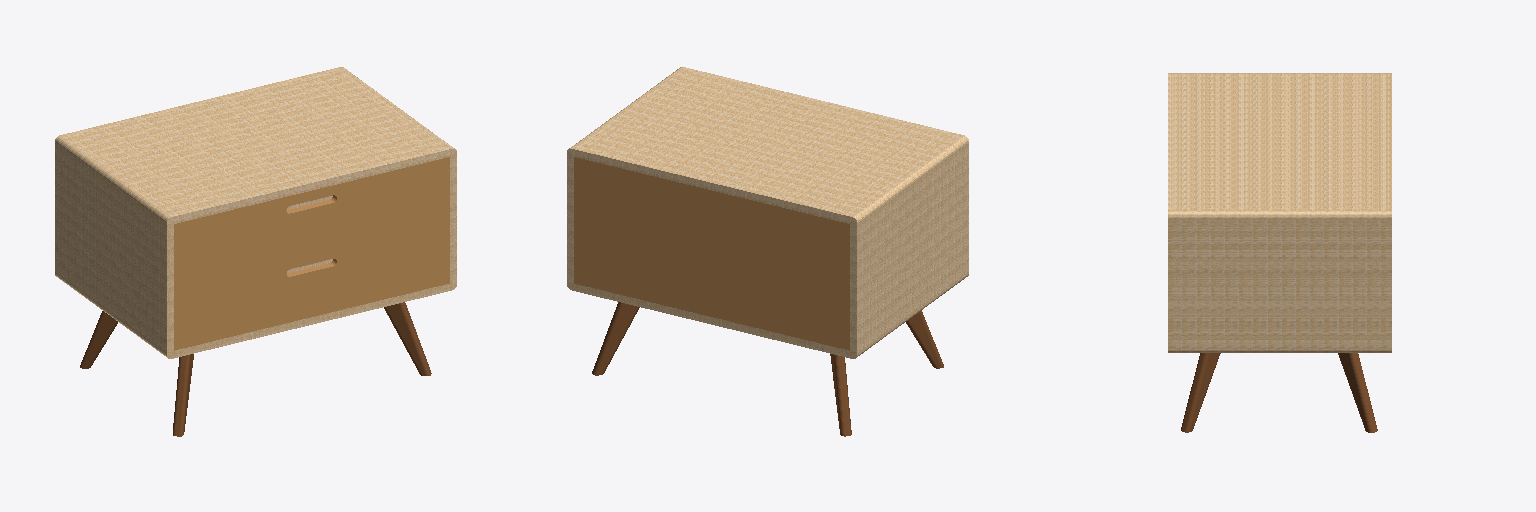
3 renders of one model, left to right at view 1: azimuth 30°, elevation 25°; view 2: azimuth 150°, elevation 25°; view 3: azimuth 270°, elevation 25°, orthographic.
Visible parts, largest first — view 1: Mesh1 Group2 Group1 Model, Mesh3 Group4 Group1 Model, Mesh2 Group3 Group1 Model, Mesh6 Group8 Group5 Group1 Model, Mesh4 Group6 Group5 Group1 Model, Mesh7 Group9 Group5 Group1 Model; view 2: Mesh1 Group2 Group1 Model, Mesh3 Group4 Group1 Model, Mesh2 Group3 Group1 Model, Mesh5 Group7 Group5 Group1 Model, Mesh7 Group9 Group5 Group1 Model, Mesh4 Group6 Group5 Group1 Model; view 3: Mesh1 Group2 Group1 Model, Mesh5 Group7 Group5 Group1 Model, Mesh6 Group8 Group5 Group1 Model.
Part boxes in pixels (x1,y1,x2,y2): Mesh1 Group2 Group1 Model: (55, 67, 456, 358); Mesh3 Group4 Group1 Model: (174, 220, 449, 350); Mesh2 Group3 Group1 Model: (174, 157, 449, 286); Mesh6 Group8 Group5 Group1 Model: (384, 302, 431, 375); Mesh4 Group6 Group5 Group1 Model: (173, 354, 193, 436); Mesh7 Group9 Group5 Group1 Model: (80, 311, 117, 368); Mesh1 Group2 Group1 Model: (567, 67, 968, 358); Mesh3 Group4 Group1 Model: (574, 220, 849, 350); Mesh2 Group3 Group1 Model: (574, 157, 849, 286); Mesh5 Group7 Group5 Group1 Model: (592, 302, 639, 375); Mesh7 Group9 Group5 Group1 Model: (830, 354, 851, 436); Mesh4 Group6 Group5 Group1 Model: (906, 310, 943, 368); Mesh1 Group2 Group1 Model: (1168, 73, 1391, 352); Mesh5 Group7 Group5 Group1 Model: (1338, 353, 1377, 432); Mesh6 Group8 Group5 Group1 Model: (1181, 353, 1220, 432).
Size of the model in its own units: 0.6 by 0.45 by 0.4.
Materials: 3 (1 with a texture image).